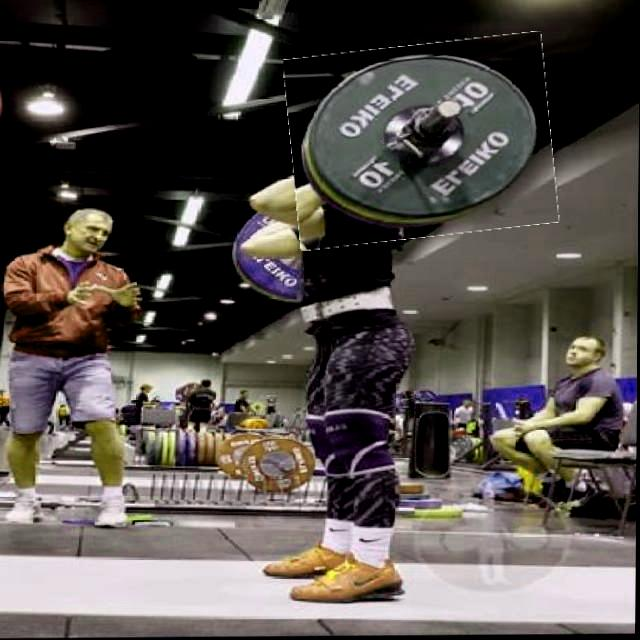barbell: (287, 39, 557, 246)
